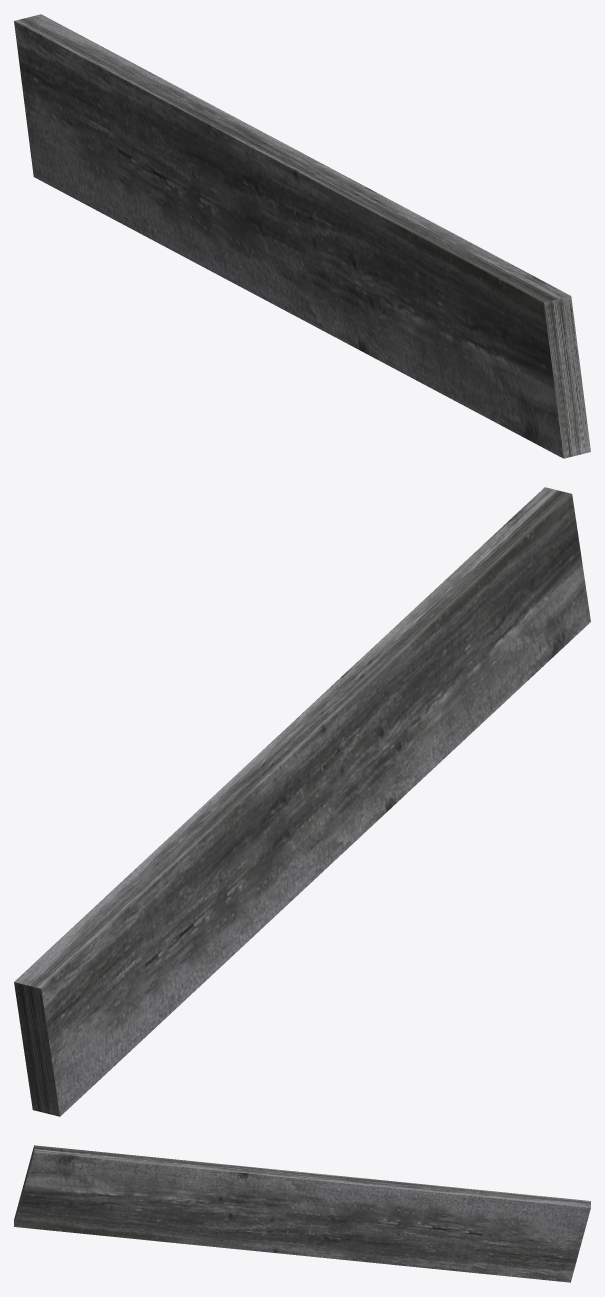
The model's file is WoodenPlank01.fbx.
3 views of the same model, one above another, from view 1: azimuth 30°, elevation 25°; view 2: azimuth 150°, elevation 25°; view 3: azimuth 270°, elevation 25° (orthographic). The views are drawn at different scales.
Visible parts, largest first — view 1: woods006; view 2: woods006; view 3: woods006.
Part boxes in pixels (<box>): woods006: <box>14,14,590,458</box>; woods006: <box>14,487,590,1116</box>; woods006: <box>14,1145,590,1282</box>.
Bounding box in the file's own units: 0.6862 × 5.86 × 23.5.
